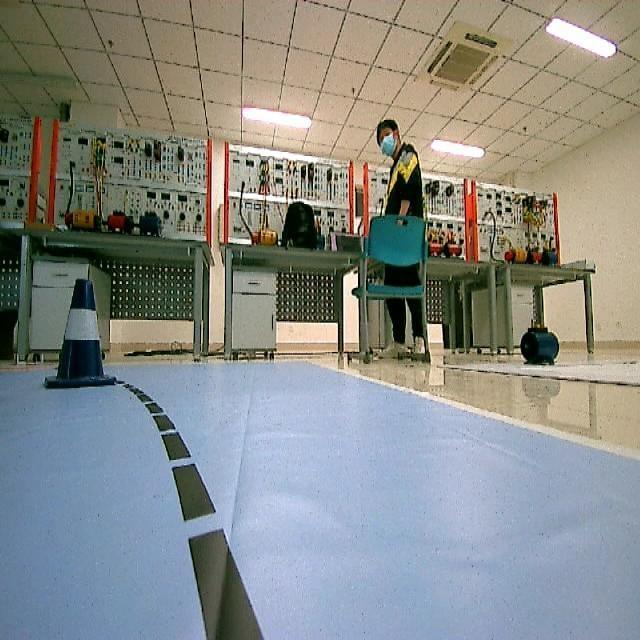obstacle: (38, 273, 124, 392)
